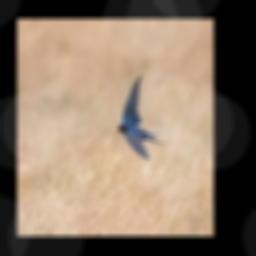Swallow: (118, 74, 165, 158)
